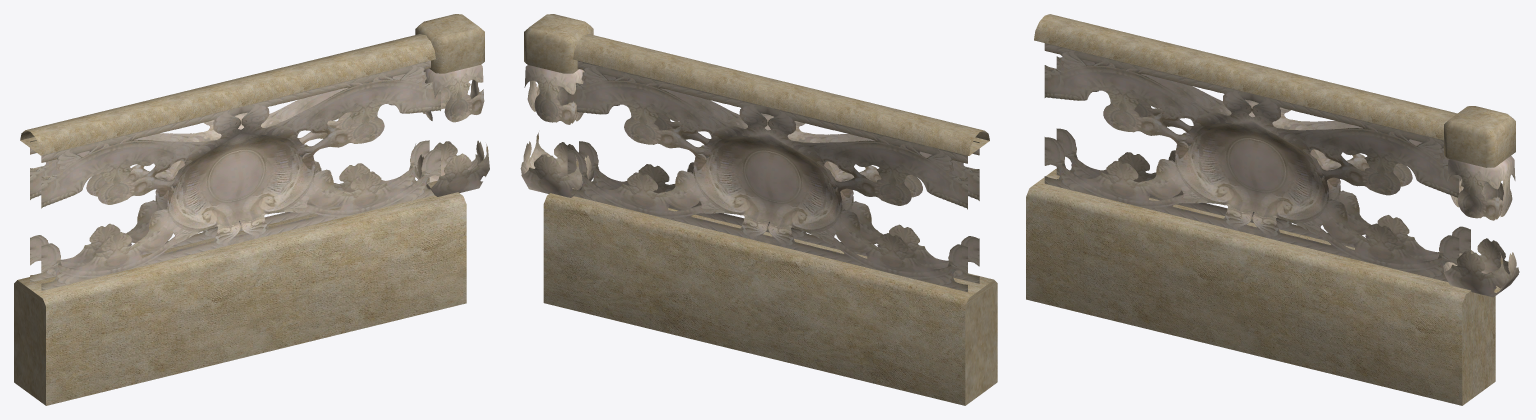
The model's file is thm_nboo_imprv_pillar_wall_ornate_small_s01_l0.fbx.
3 renders of one model, left to right at view 1: azimuth 30°, elevation 25°; view 2: azimuth 150°, elevation 25°; view 3: azimuth 330°, elevation 25°, orthographic. The views are drawn at different scales.
Parts seen in each view (by area): view 1: mesh_node; view 2: mesh_node; view 3: mesh_node.
Boxes of the visible parts, x1,y1,x2,y2 form: mesh_node: (14, 14, 489, 405); mesh_node: (520, 14, 997, 405); mesh_node: (1026, 14, 1519, 405).
Size of the model in its own units: 2.78 by 1.56 by 0.342.
